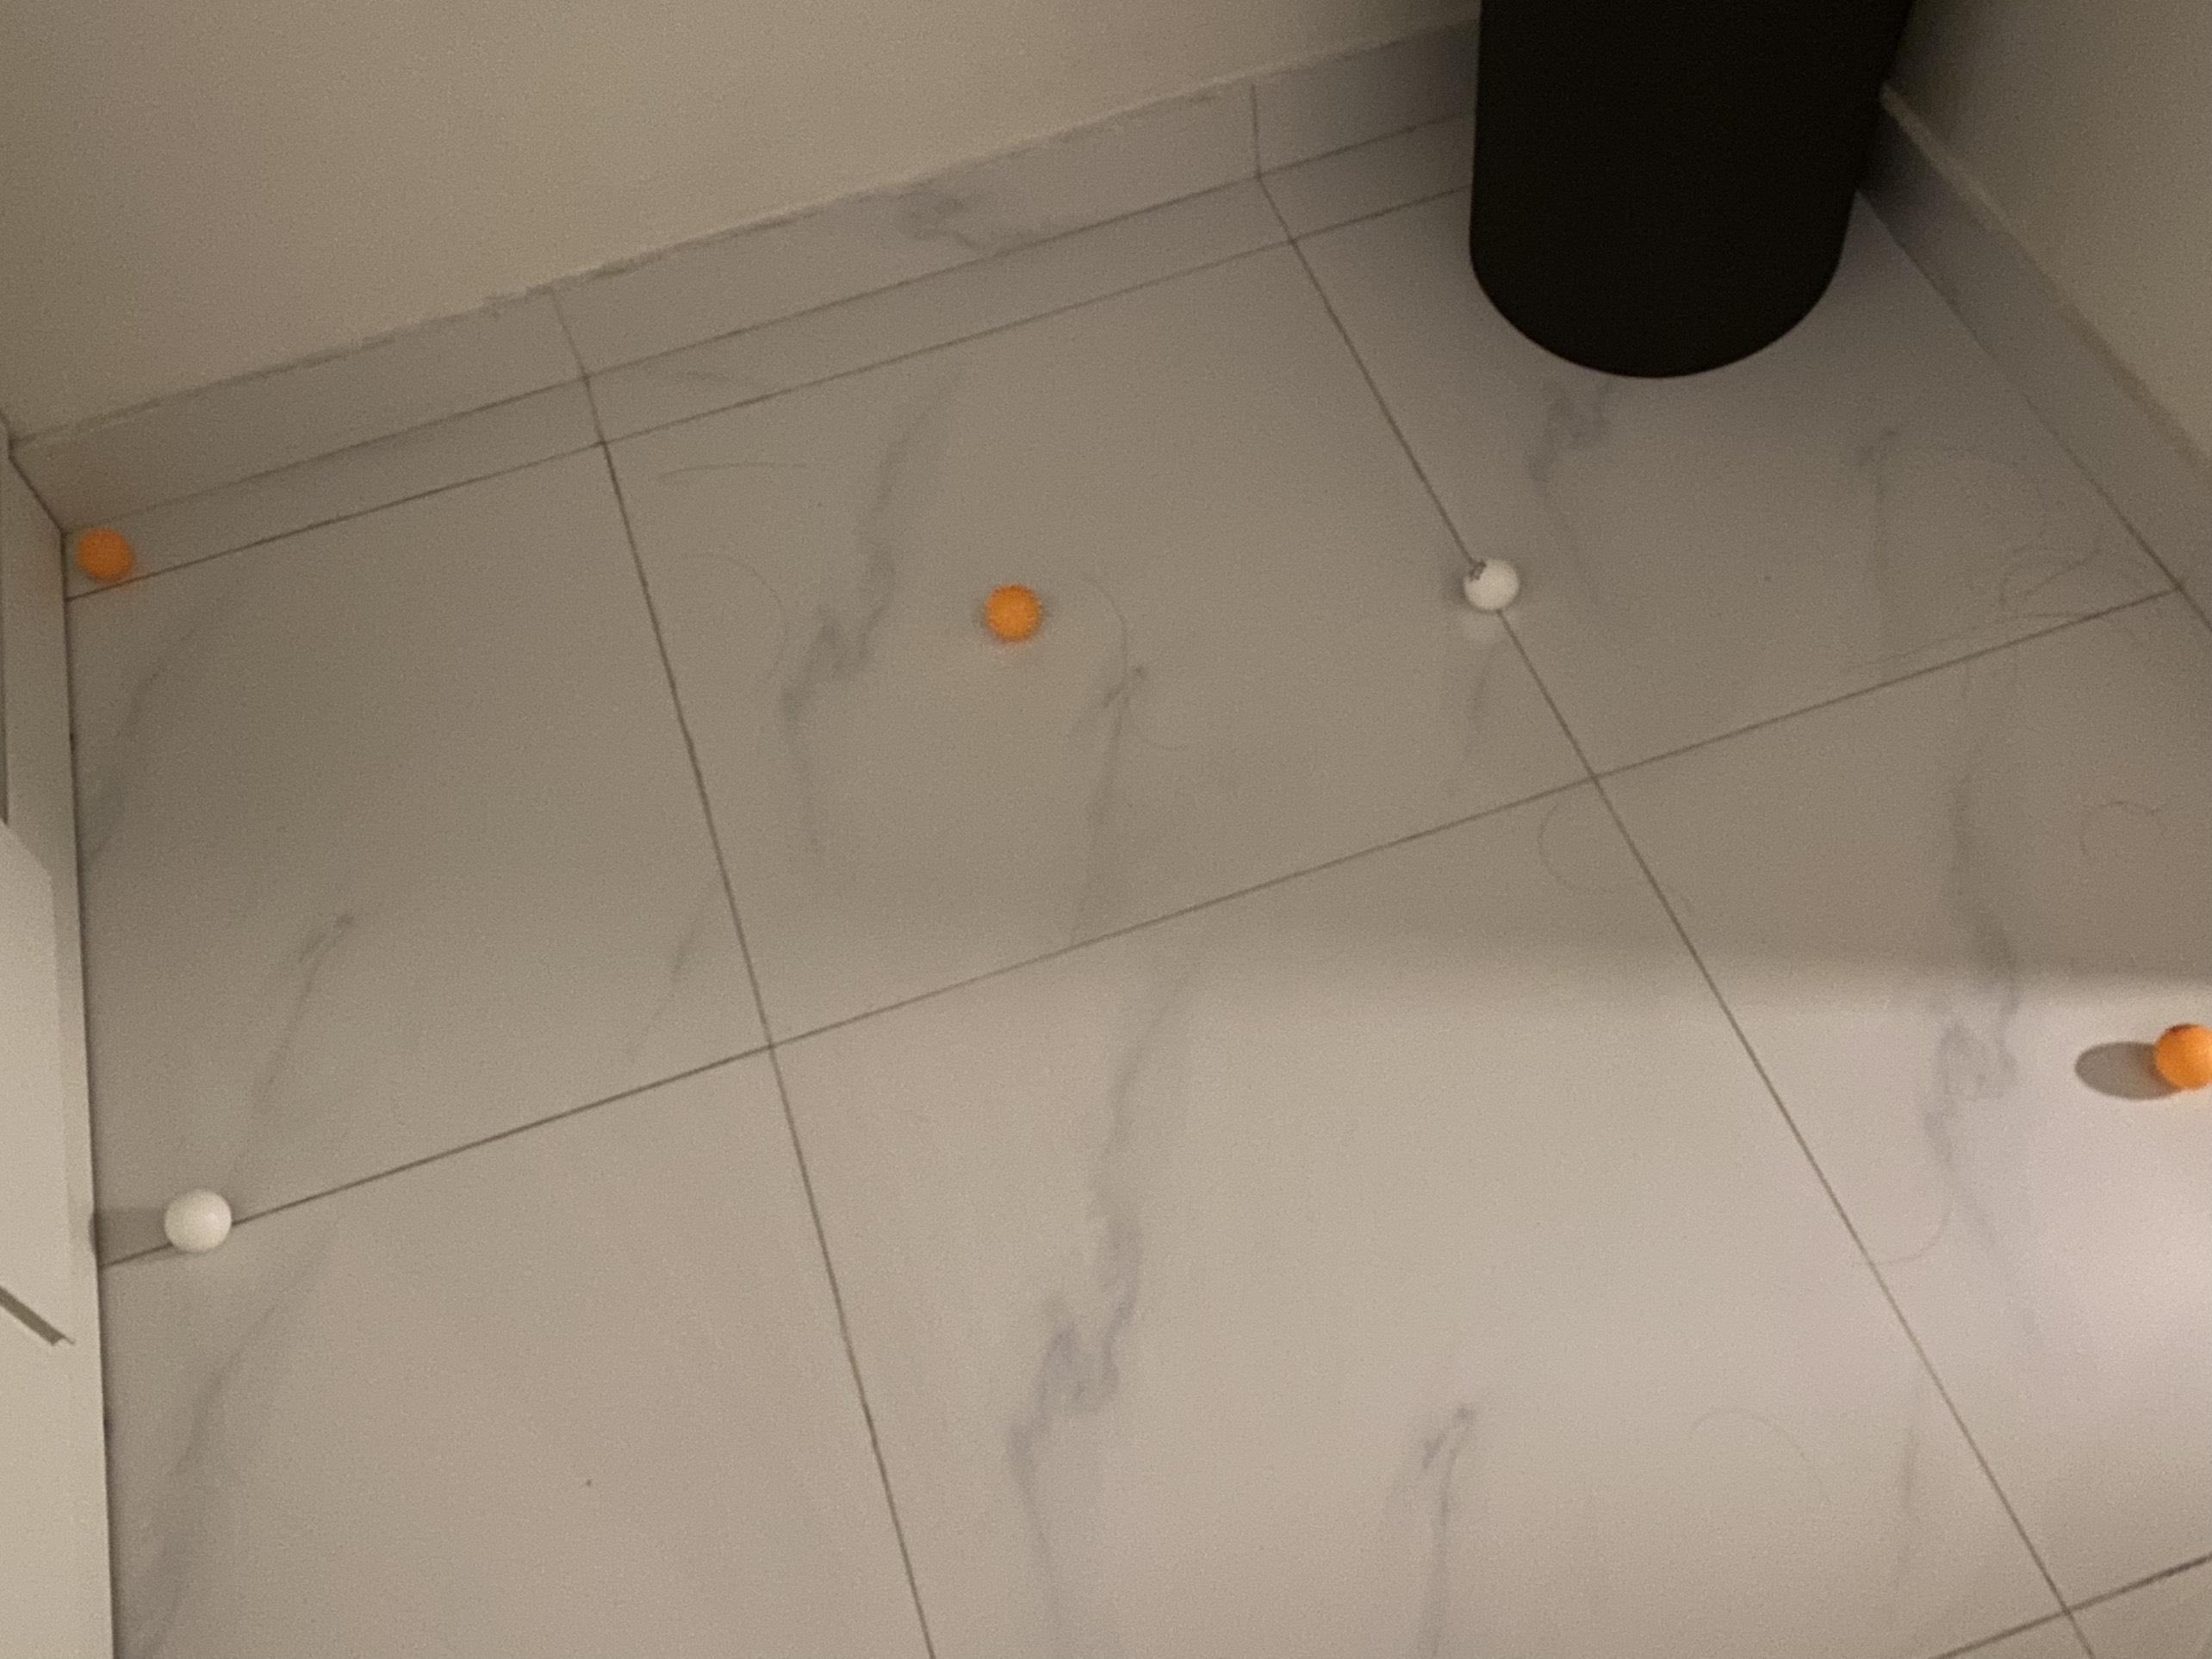oball: (2160, 1016, 2212, 1094), (71, 523, 134, 584), (984, 582, 1042, 643)
